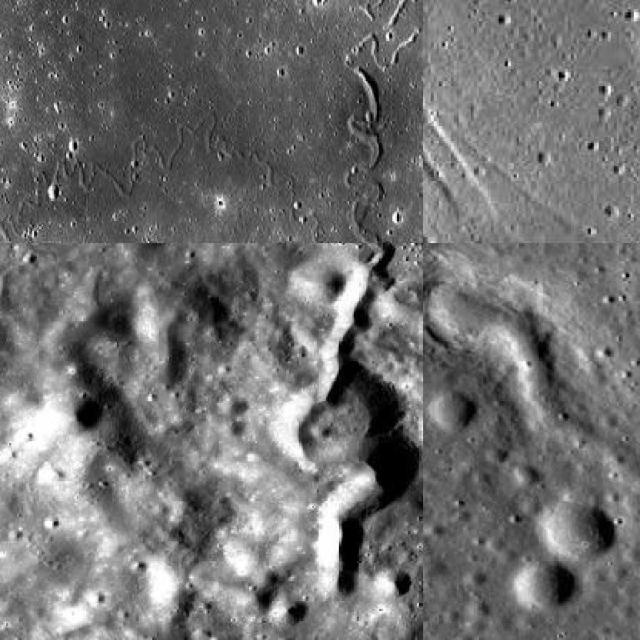crater: (200, 243, 423, 600), (2, 66, 386, 242), (425, 280, 640, 501), (425, 0, 511, 242)
